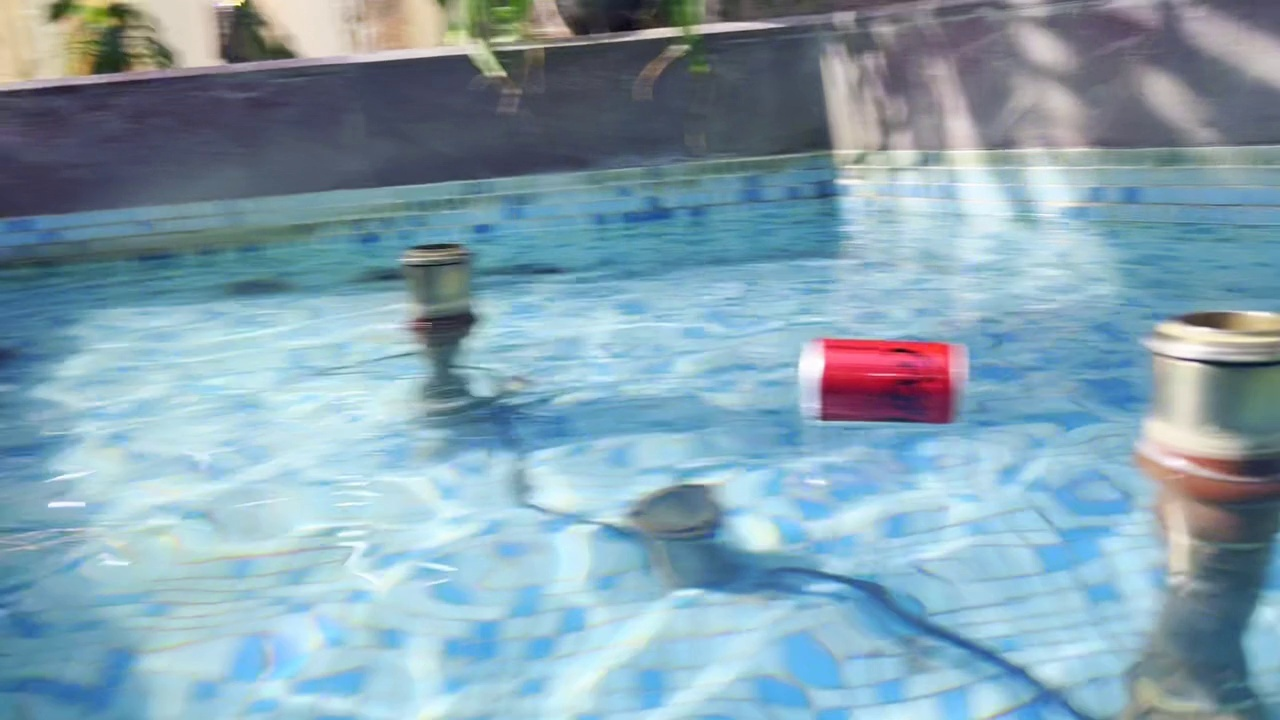debris: (791, 326, 979, 432)
